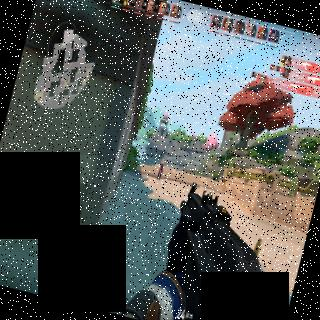ENEMY-BODY: (156, 157, 165, 181)
ENEMY-HEAD: (162, 158, 164, 162)
